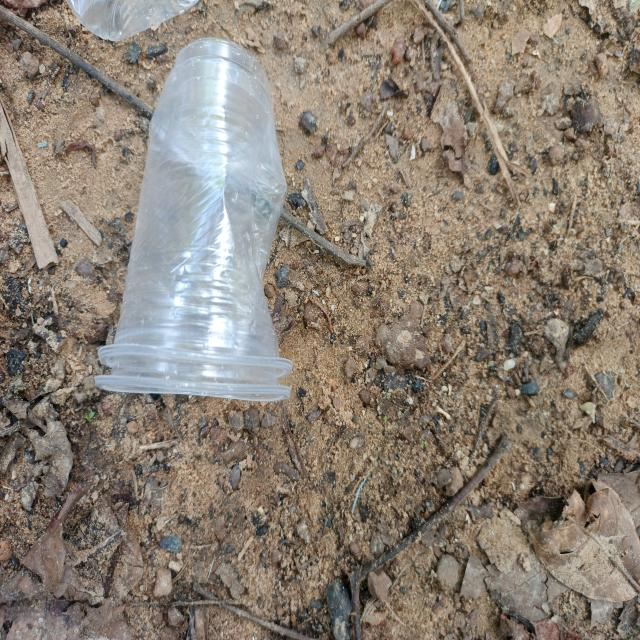plastic: (95, 24, 320, 422)
